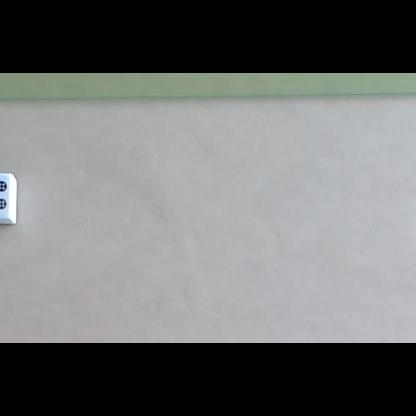4p: (0, 179, 7, 210)
